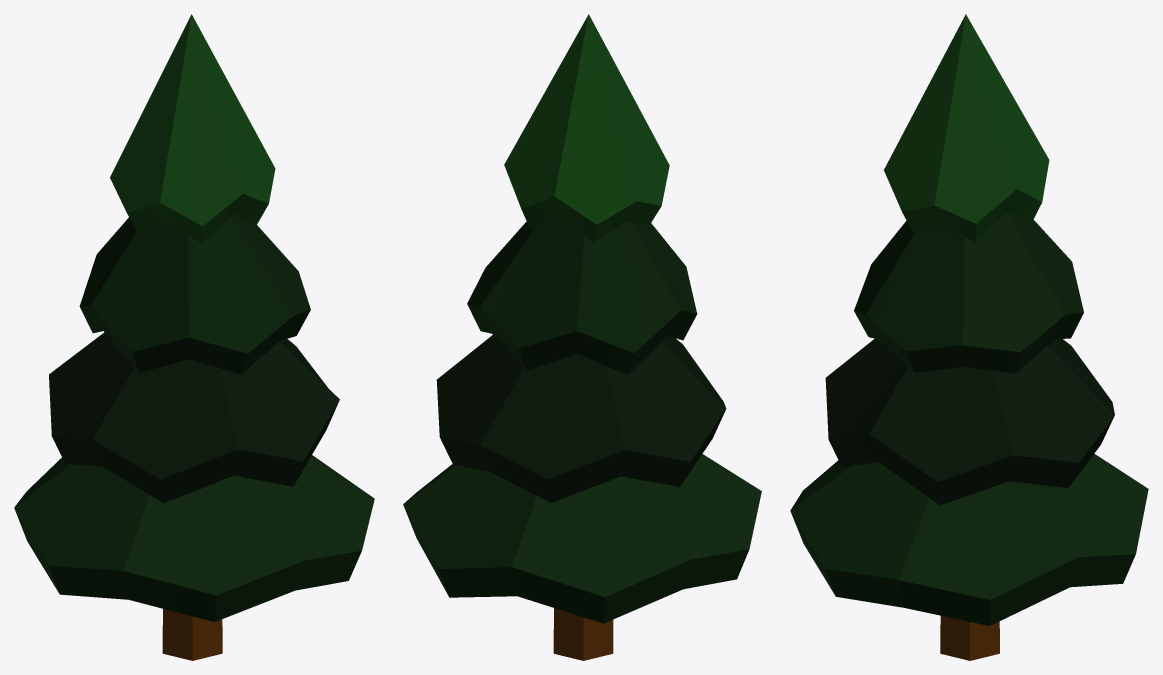
File: SM__Coniferous__Tree__Growth__2.fbx
3 renders of one model, left to right at view 1: azimuth 30°, elevation 25°; view 2: azimuth 150°, elevation 25°; view 3: azimuth 270°, elevation 25°, orthographic.
Visible parts, largest first — view 1: groupdelete5; view 2: groupdelete5; view 3: groupdelete5.
Boxes of the visible parts, x1,y1,x2,y2 form: groupdelete5: (14,14,374,660); groupdelete5: (403,14,761,660); groupdelete5: (790,14,1148,660).
Size of the model in its own units: 3.52 by 6.83 by 3.51.
